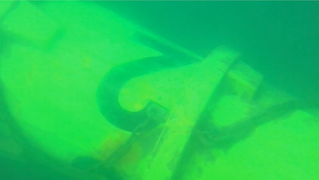2: (97, 30, 203, 133)
pipe: (1, 1, 319, 180)
